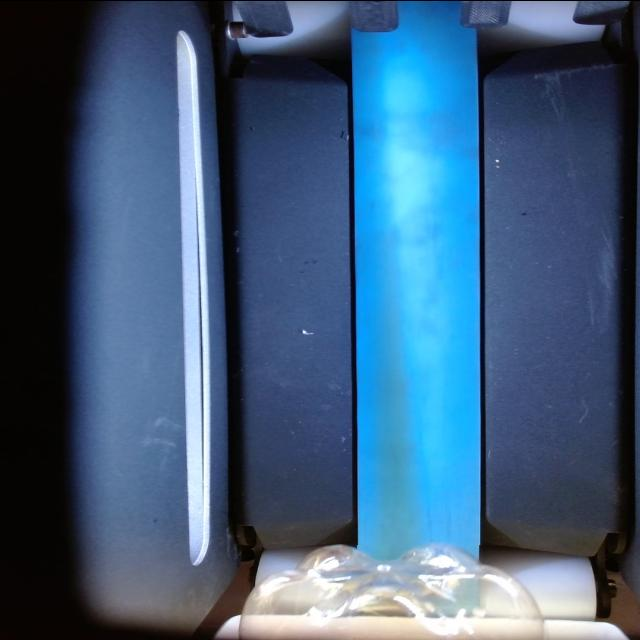bottle: (238, 544, 546, 640)
